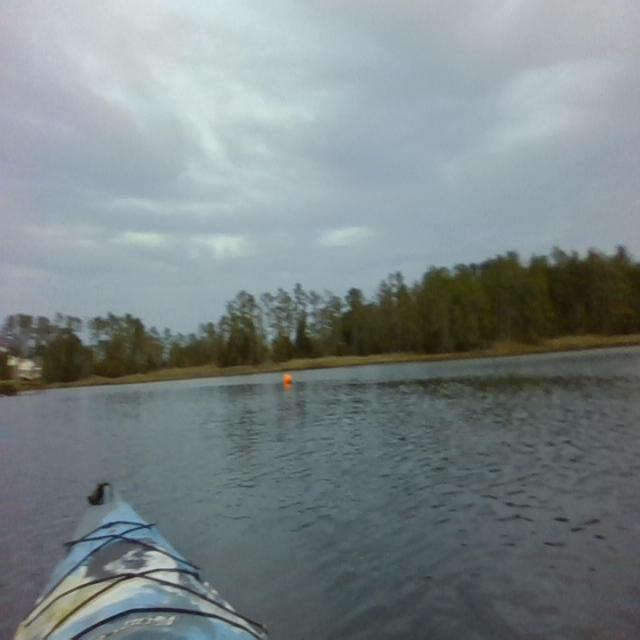Buoy: (282, 370, 293, 384)
